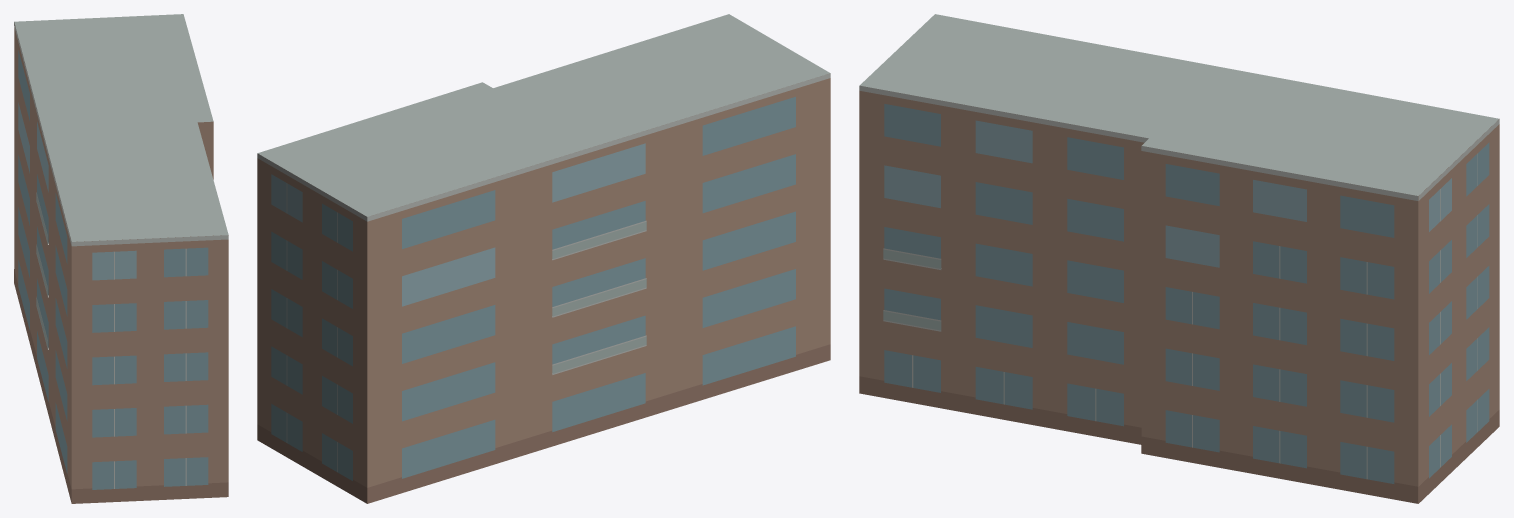
File: survey-upis-32531567.glb
The picture shows the model from 3 angles, left to right: view 1: azimuth 30°, elevation 25°; view 2: azimuth 150°, elevation 25°; view 3: azimuth 270°, elevation 25°; orthographic projection. The views are drawn at different scales.
Parts seen in each view (by area): view 1: survey-upis-32531567.tmp; view 2: survey-upis-32531567.tmp; view 3: survey-upis-32531567.tmp.
Boxes of the visible parts, left/top/right/bottom form: survey-upis-32531567.tmp: left=14, top=14, right=228, bottom=503; survey-upis-32531567.tmp: left=257, top=14, right=830, bottom=503; survey-upis-32531567.tmp: left=859, top=14, right=1499, bottom=503.
Bounding box in the file's own units: 18.53 × 14.6 × 27.52.
